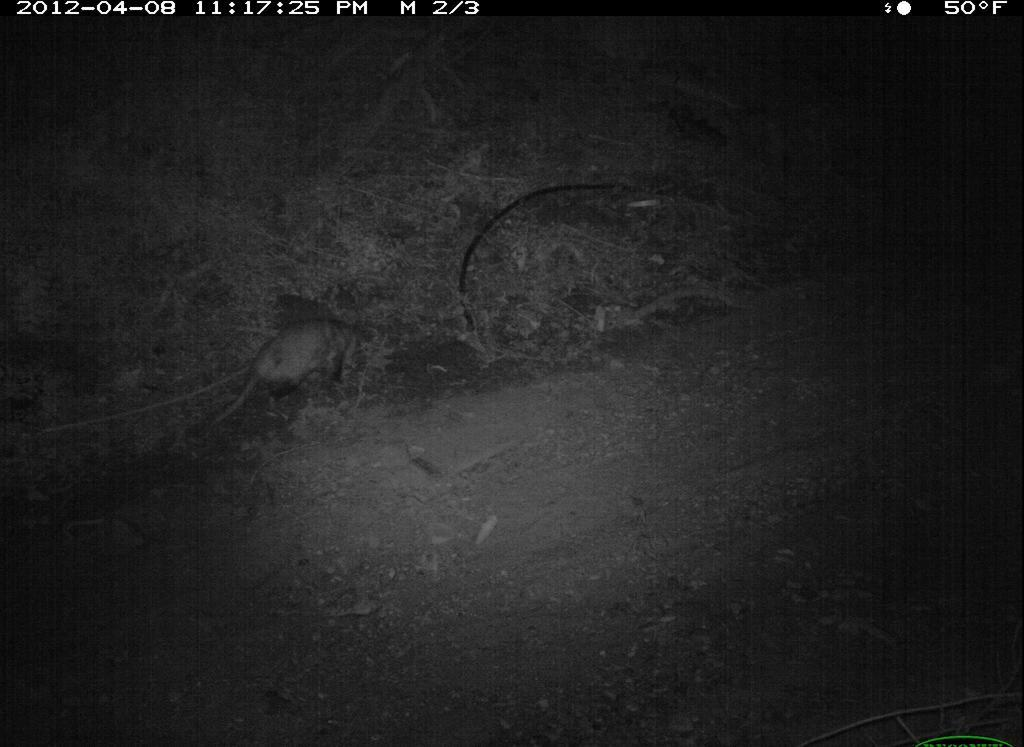opossum: (196, 312, 395, 442)
